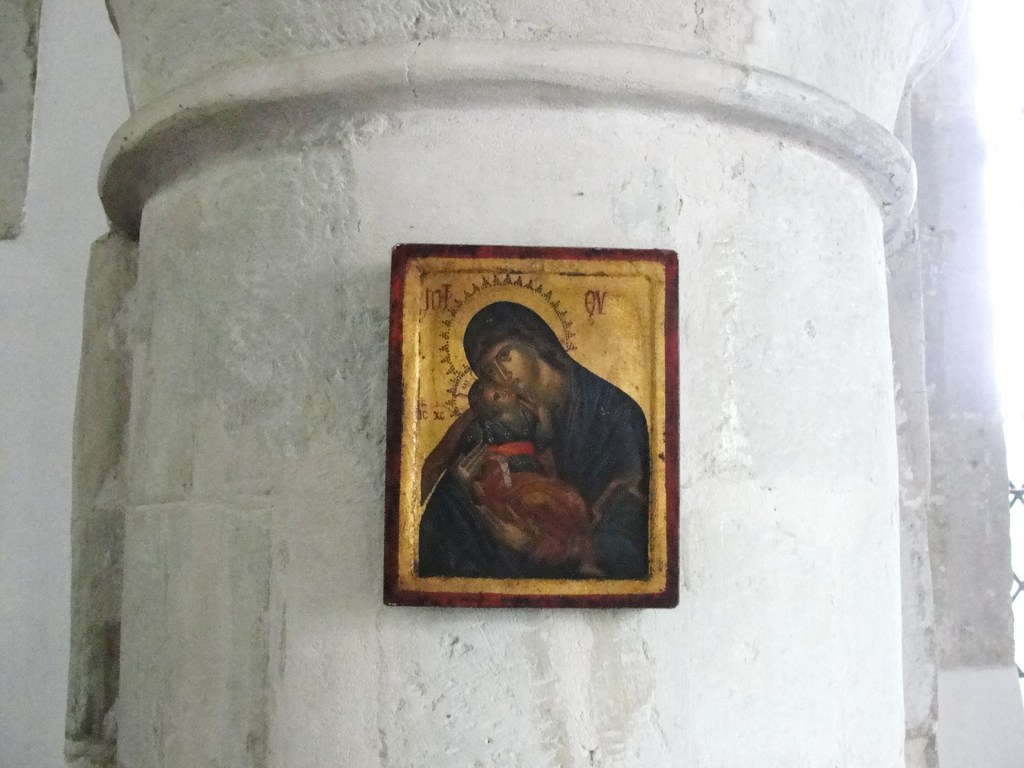Human-face: (480, 342, 539, 393), (484, 381, 513, 404)
